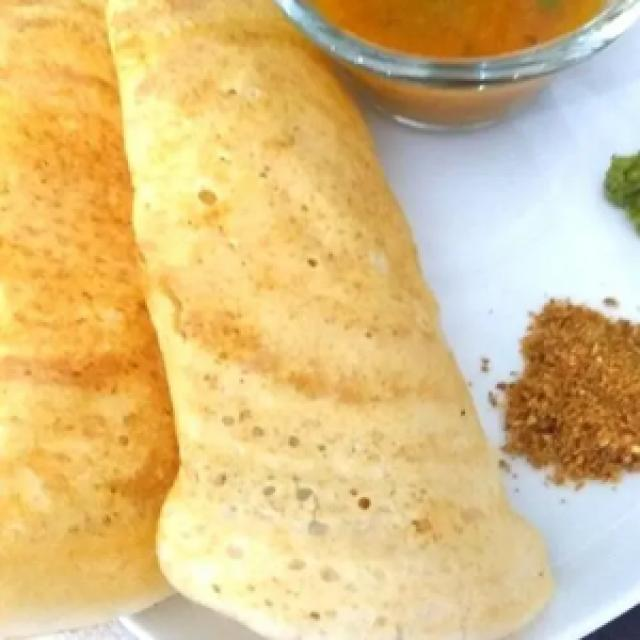dosa: (95, 0, 561, 640), (0, 0, 192, 640)
